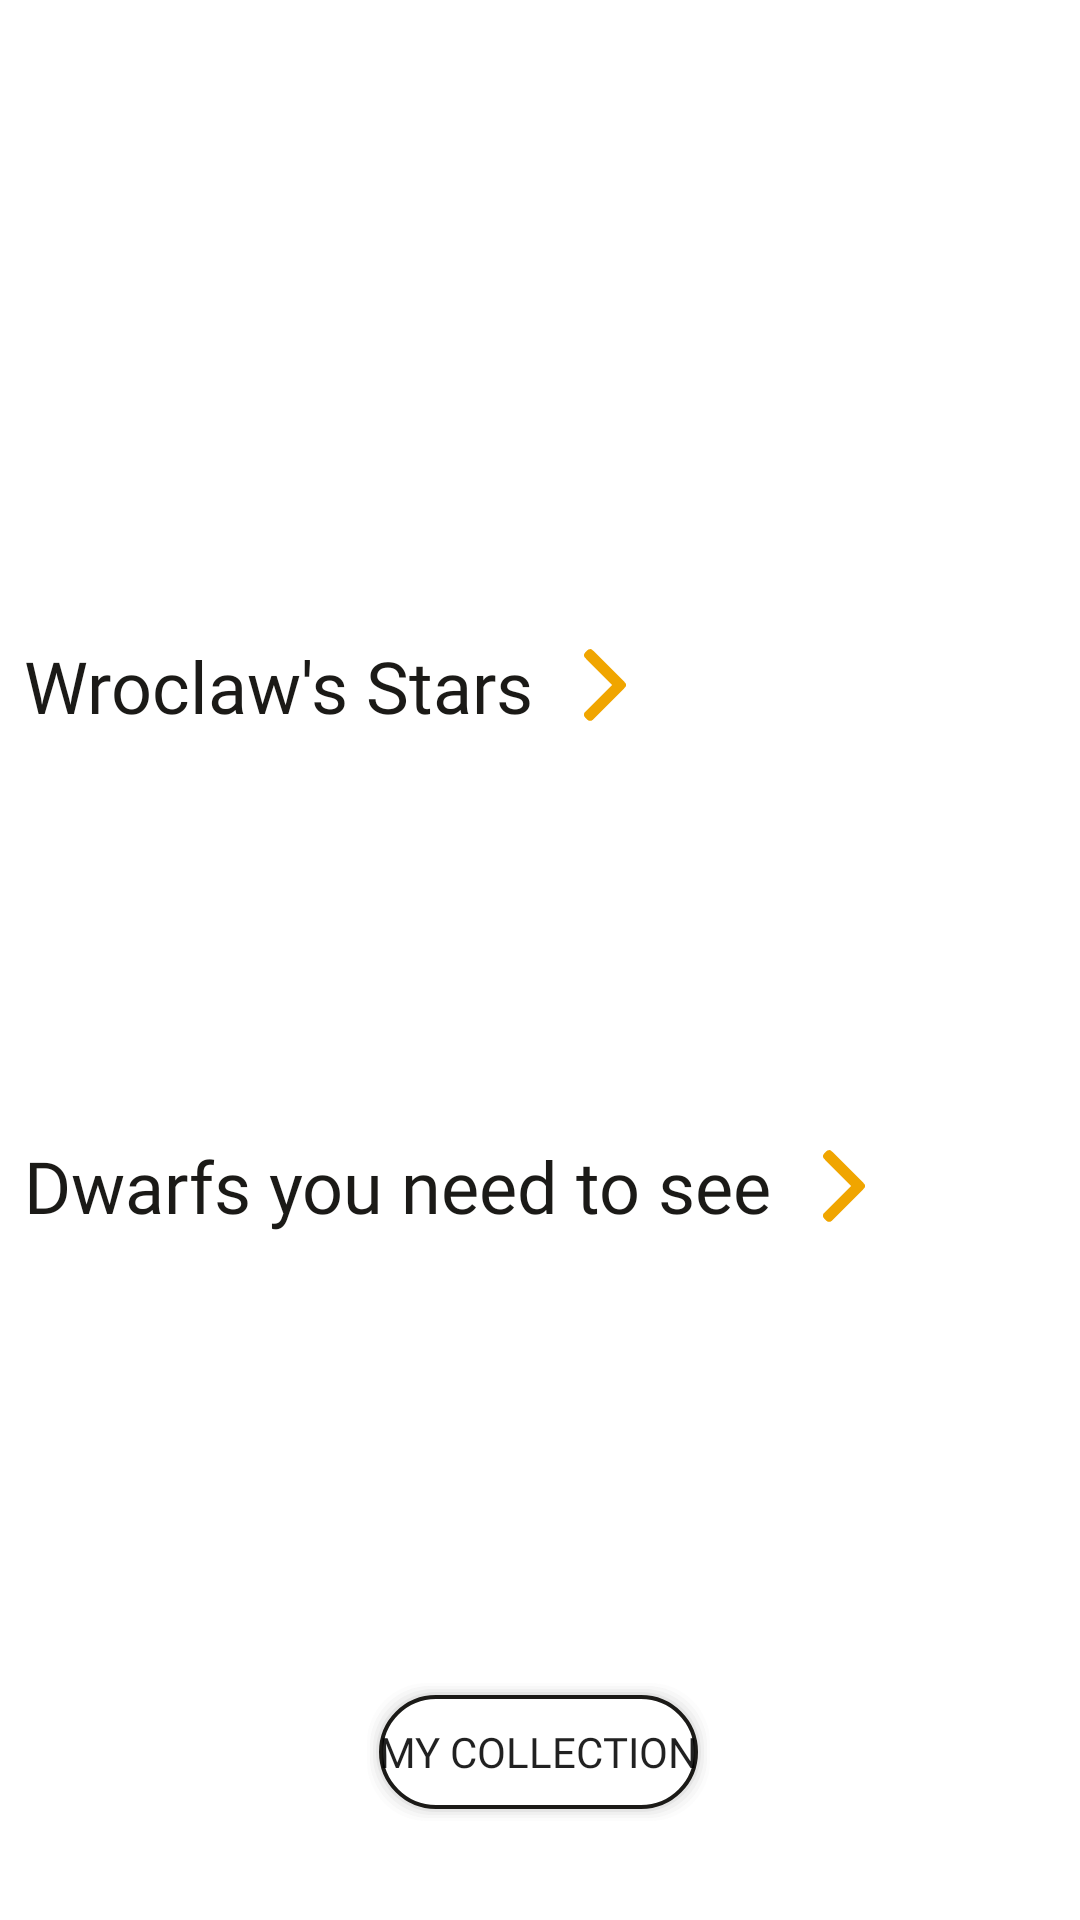

Point at icon controls on the screen. Image size 1080w x 1920h, points as point (x, y).
right arrow: point (605, 685), point (844, 1186)
